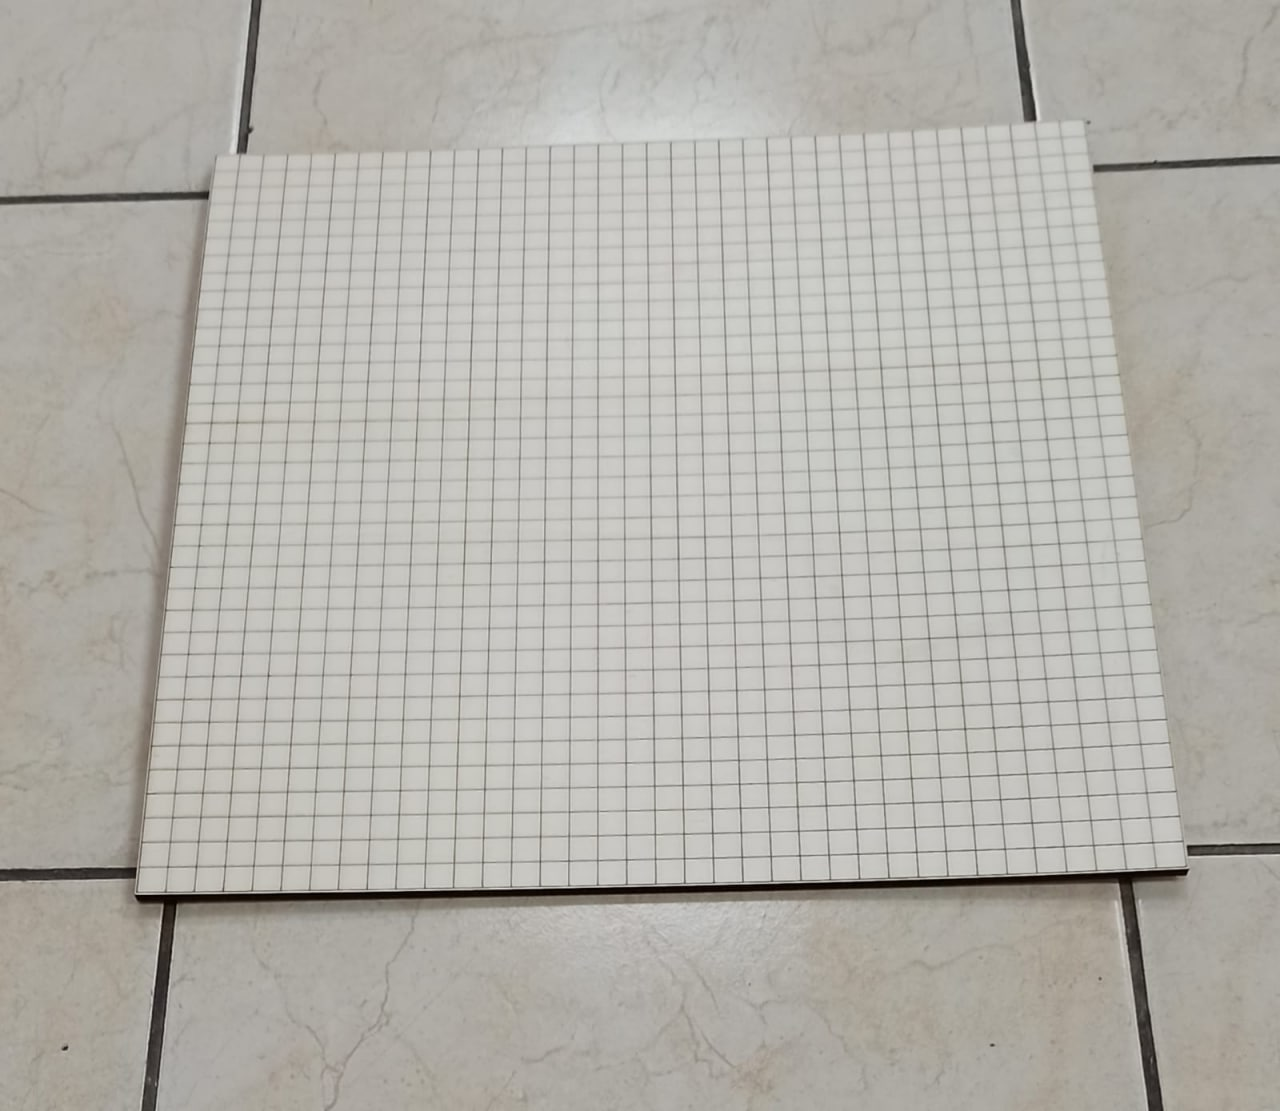grid: (132, 109, 1198, 901)
